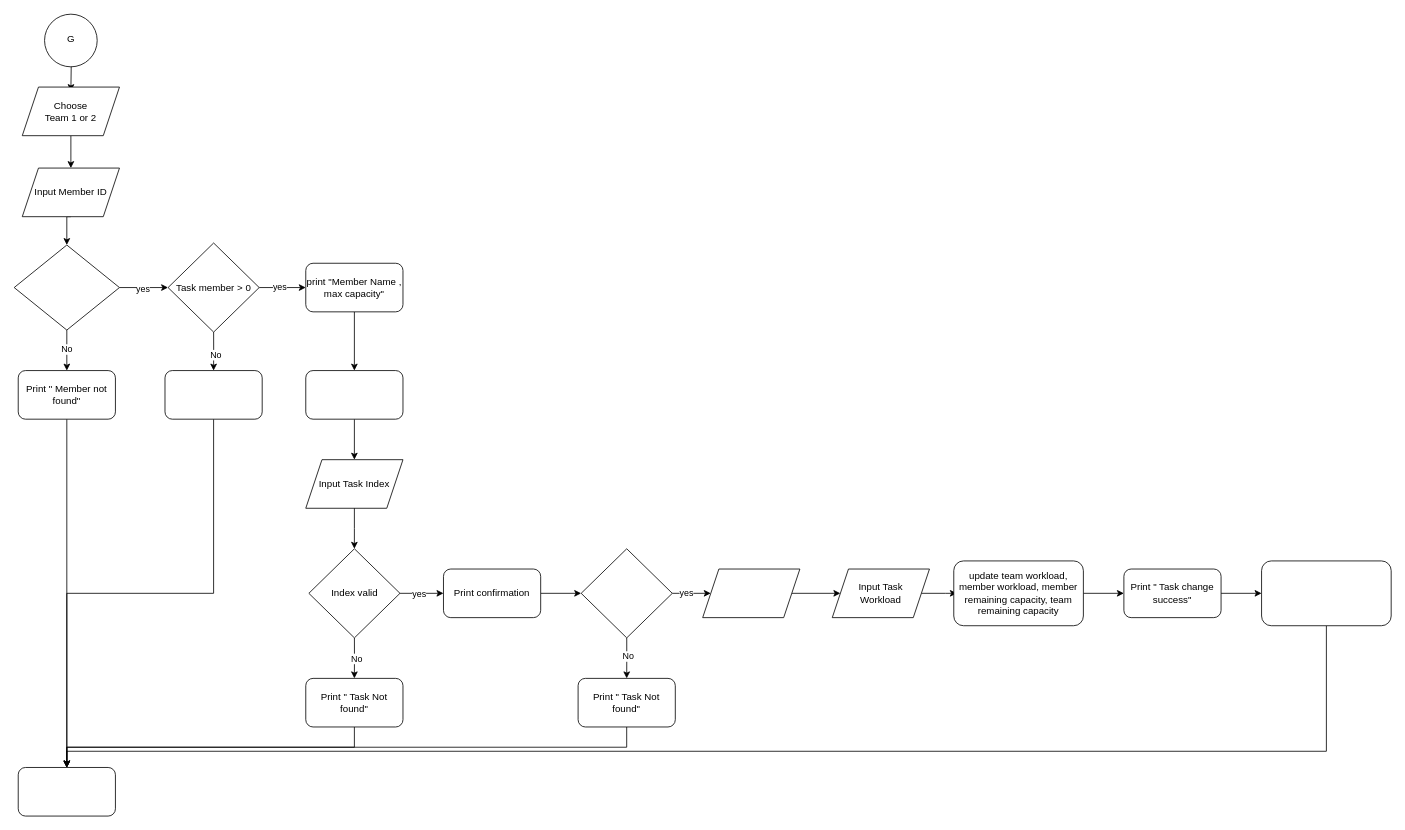
Some shapes in this 1405 by 830 pixel diagram are drawn without their labels. The shapes that lost their labels are listed below. From the top down, each one's centre as x and y in pixels, then its label:
point (66, 287): Member ID Existis
point (213, 394): Print " Member has no task"
point (354, 394): print (index)+ "Task List
point (626, 593): user confirm yes
point (751, 593): Input Task Name
point (1326, 593): Print member table data
point (66, 791): Back To Main Menu
